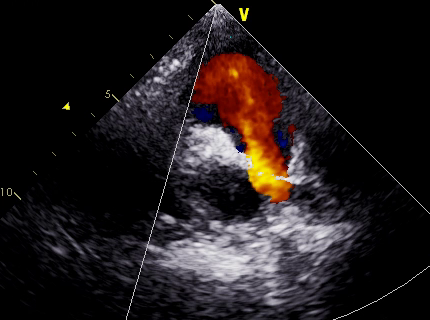PR: (220, 114, 293, 184)
